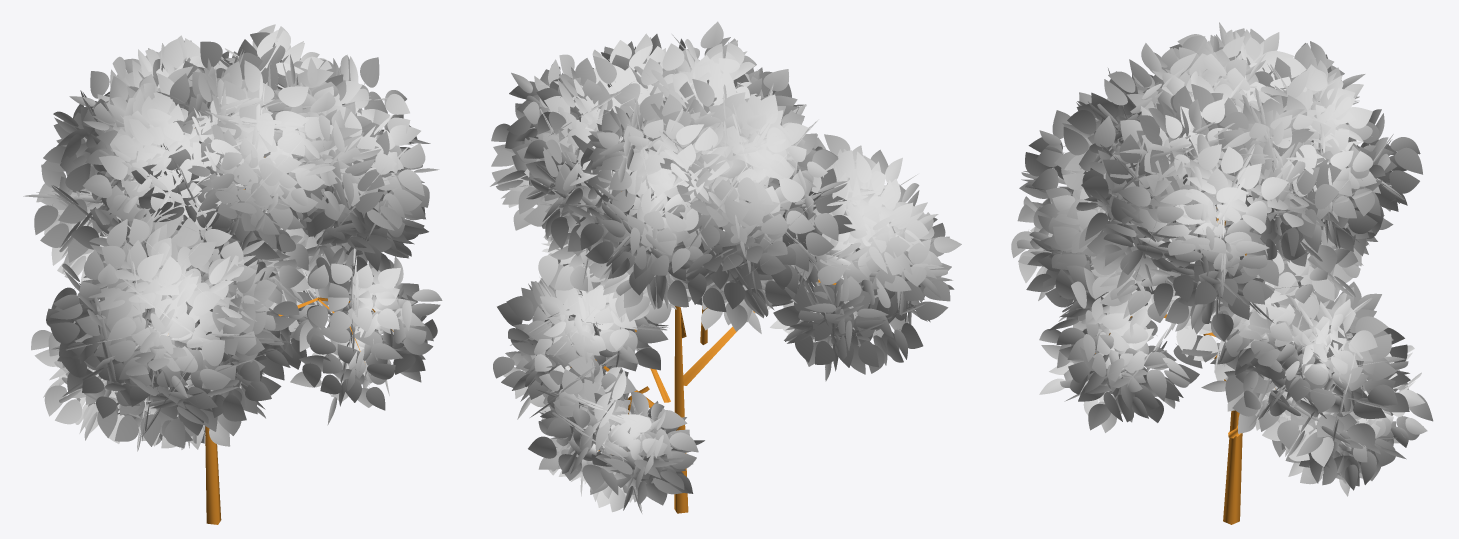
File: Drzewko3_LOD2.fbx
3 renders of one model, left to right at view 1: azimuth 30°, elevation 25°; view 2: azimuth 150°, elevation 25°; view 3: azimuth 270°, elevation 25°, orthographic. The views are drawn at different scales.
Parts seen in each view (by area): view 1: Leaf.003, tree; view 2: Leaf.003, tree; view 3: Leaf.003, tree.
Part boxes in pixels (bbox=[...]): Leaf.003: bbox=[23, 24, 442, 451]; tree: bbox=[194, 128, 393, 524]; Leaf.003: bbox=[490, 21, 961, 513]; tree: bbox=[570, 191, 836, 513]; Leaf.003: bbox=[1011, 22, 1433, 496]; tree: bbox=[1095, 207, 1275, 524].
Bounding box in the file's own units: 1781 × 2032 × 2150.
